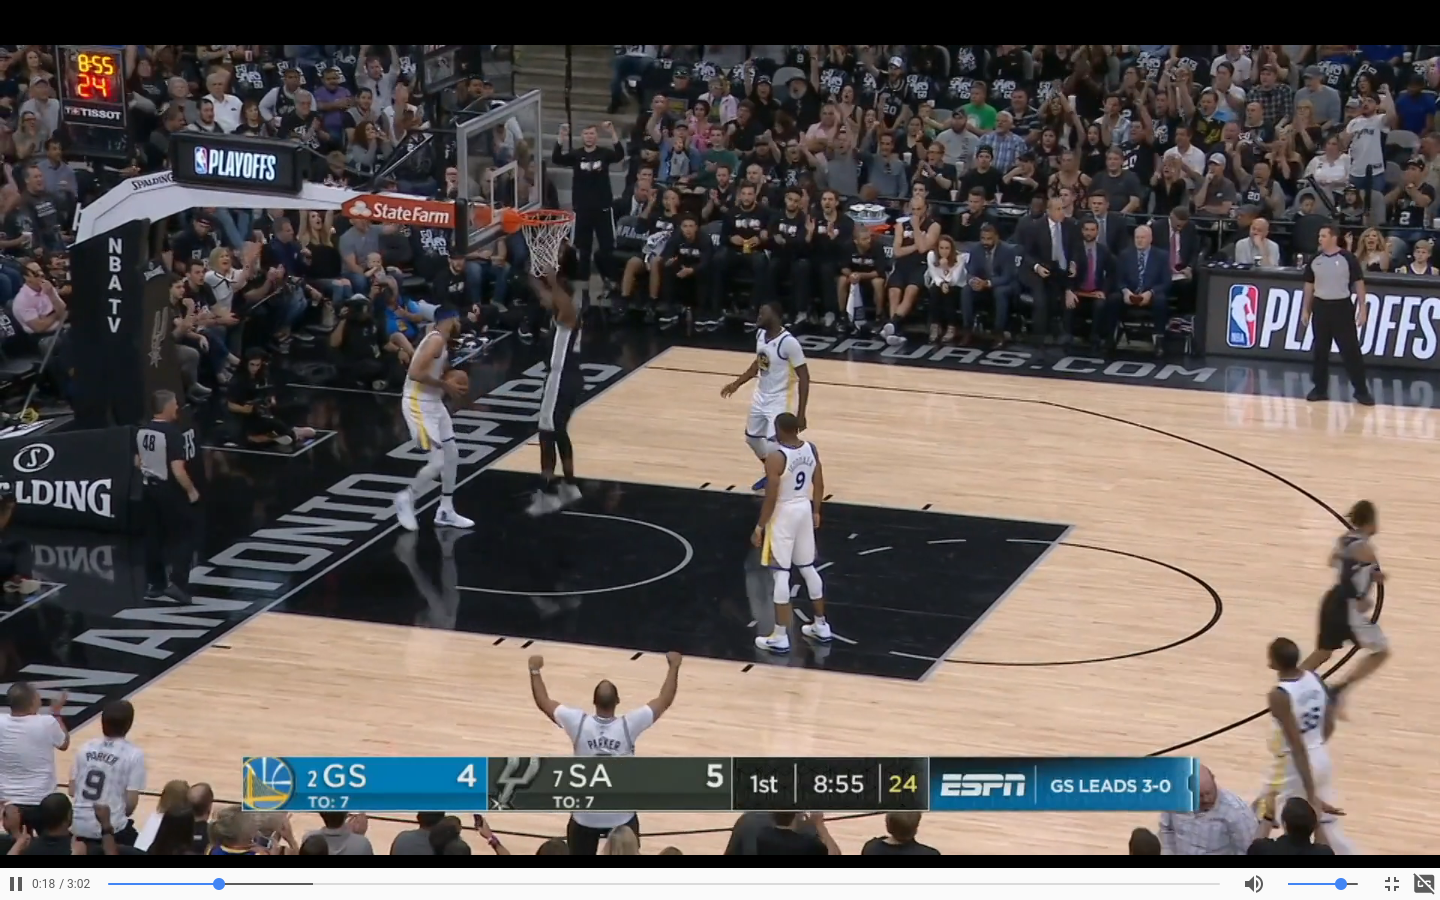basketball: (438, 365, 481, 399)
basketball player: (739, 408, 845, 656), (1302, 482, 1404, 692), (1261, 632, 1350, 848), (393, 300, 472, 539), (525, 266, 593, 520), (718, 291, 815, 449)
referee: (122, 386, 213, 606), (1301, 226, 1367, 402)
